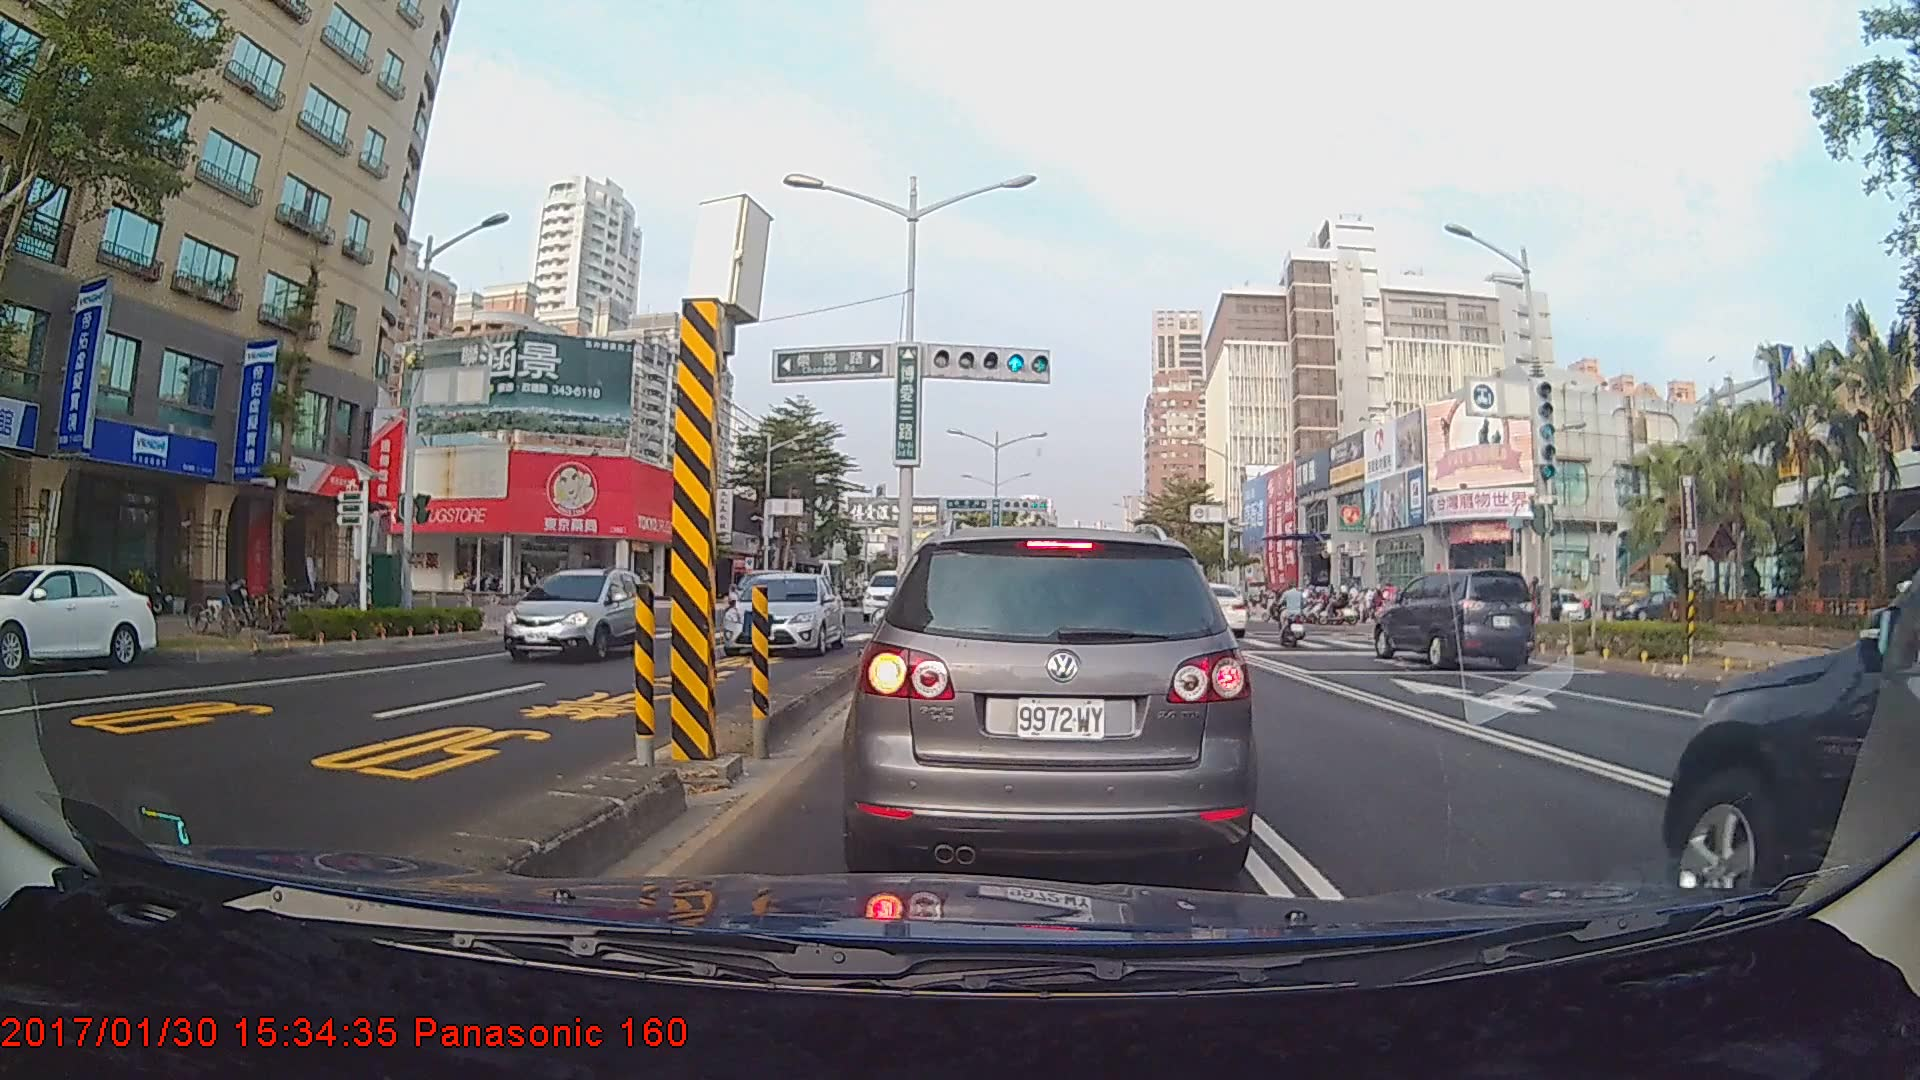rider: (1275, 578, 1320, 647)
vehicle: (1670, 426, 1920, 1045), (852, 522, 1251, 882), (0, 561, 157, 671), (1372, 567, 1535, 670), (504, 564, 652, 662), (722, 570, 845, 658), (1163, 582, 1246, 637), (859, 568, 916, 624)
